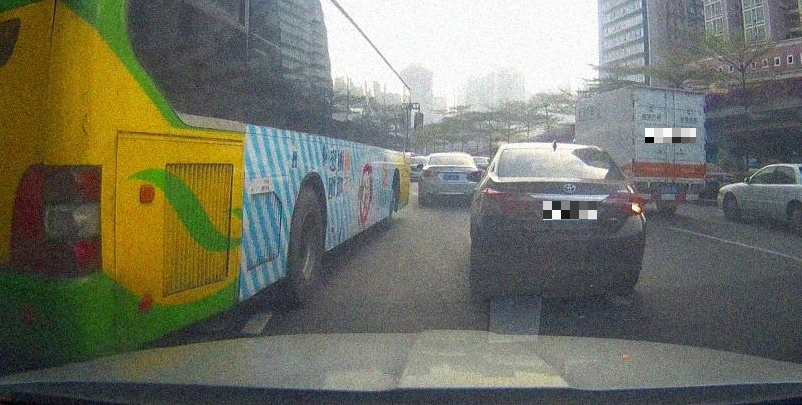L_light: (480, 188, 540, 217)
R_light: (599, 189, 646, 216)
T_light: (545, 148, 574, 155)
day-right: (475, 144, 647, 294)
plate_1: (543, 201, 597, 220)
plate_2: (645, 128, 696, 143)
